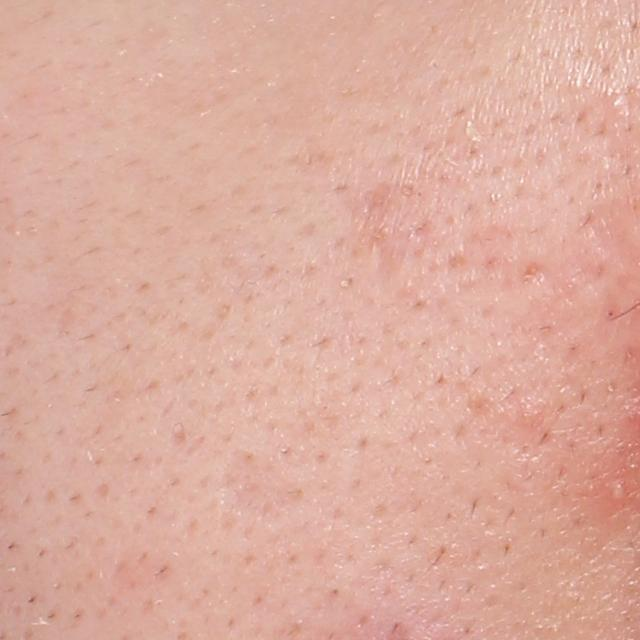atrophic_scar: (478, 404, 550, 455), (518, 260, 549, 289)
pustule: (598, 472, 630, 508)
